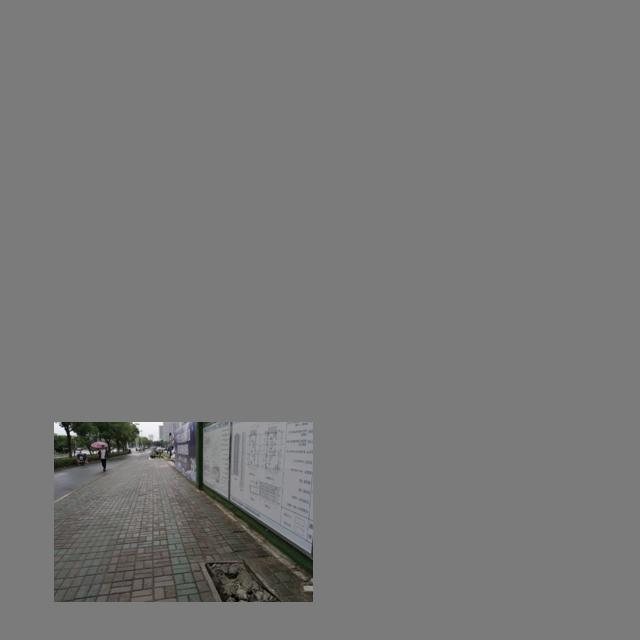broke: (200, 558, 284, 602)
